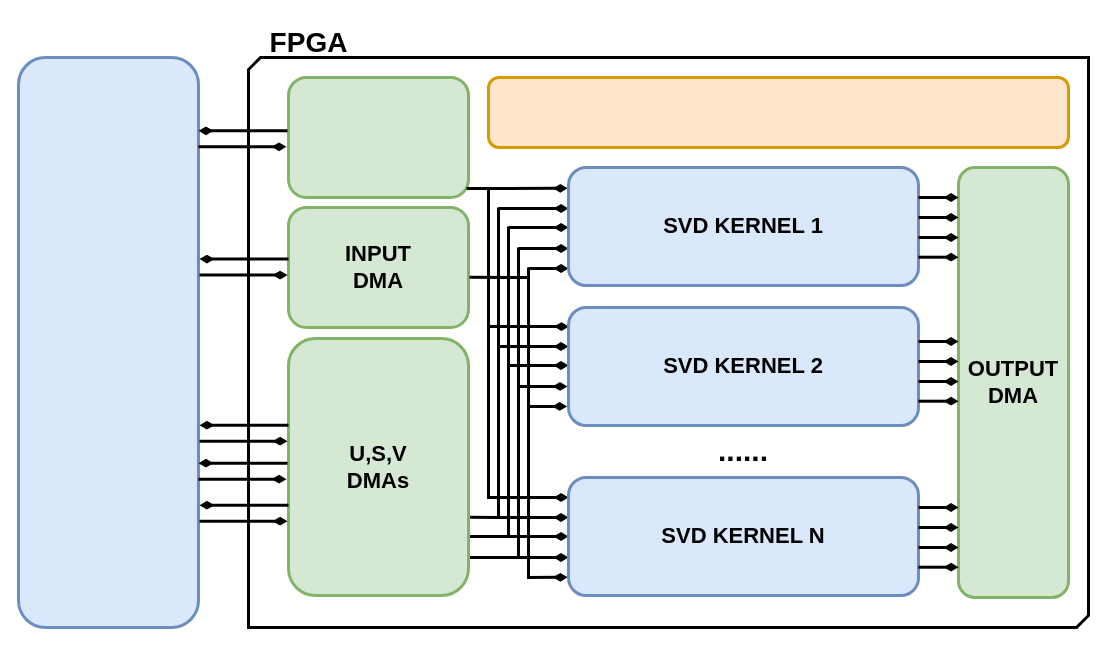
Image size: 1107x646. Some labels were removed from this diagram. The centre of each missing label's shape, as x and y in pixels:
"CONTROL LOGIC" belongs at [778,112].
"MASK DMAs" belongs at [378,137].
"MEMORY CONTROLLER" belongs at [108,342].
